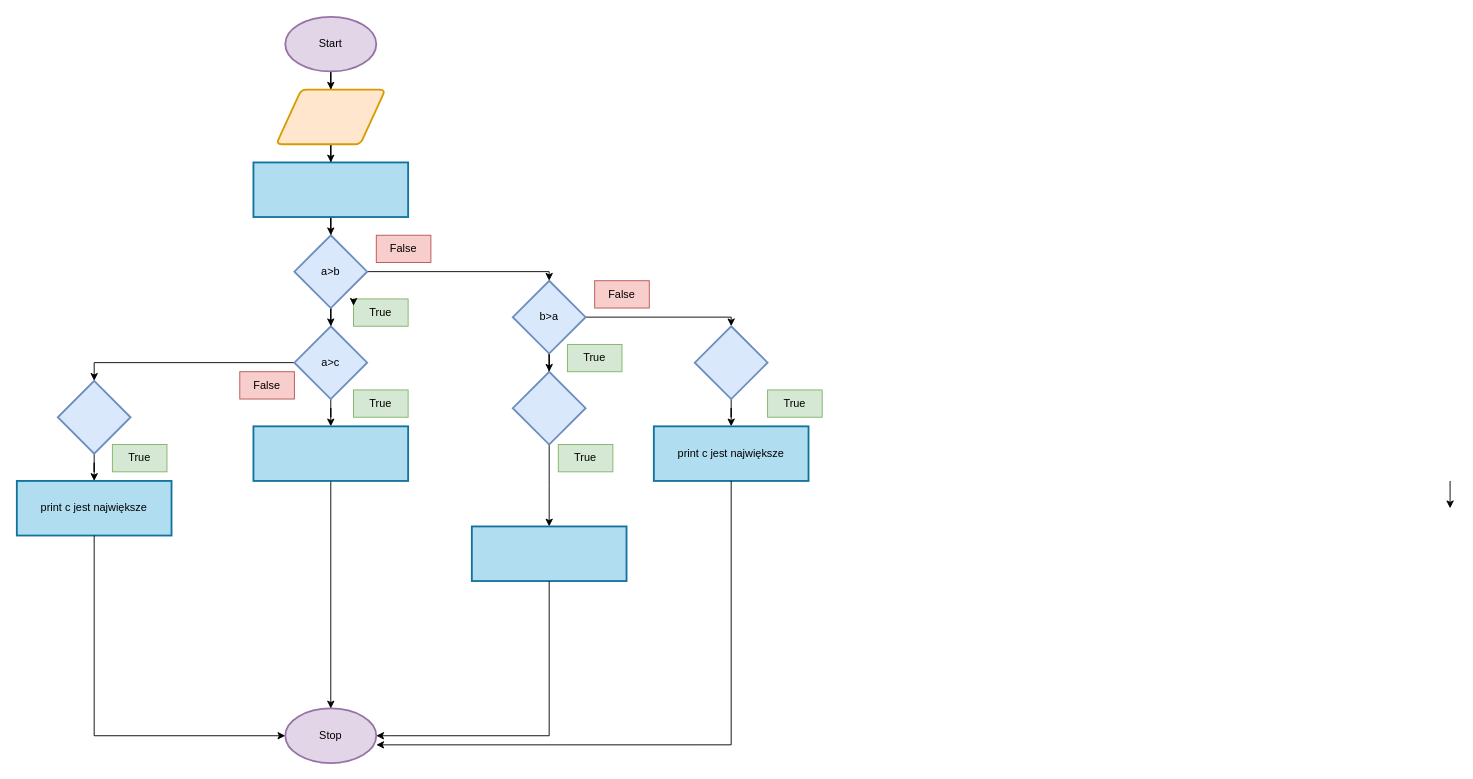
Image size: 1473x779. Some labels were removed from this diagram. Here are the shapes that lost their labels. From the top down, the centre of each, then its label:
the point at 330,116: Stwórz a,b,c
the point at 330,189: Zapytaj o wartość a,b,c
the point at 730,362: c>b
the point at 93,416: c>a
the point at 548,407: b>c
the point at 330,453: print a jest największe
the point at 548,553: print b jest największe
